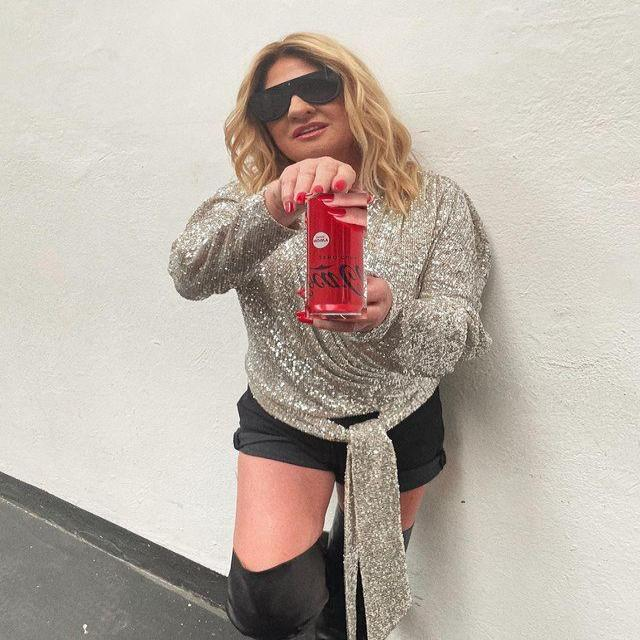coca-cola: (305, 193, 367, 319)
